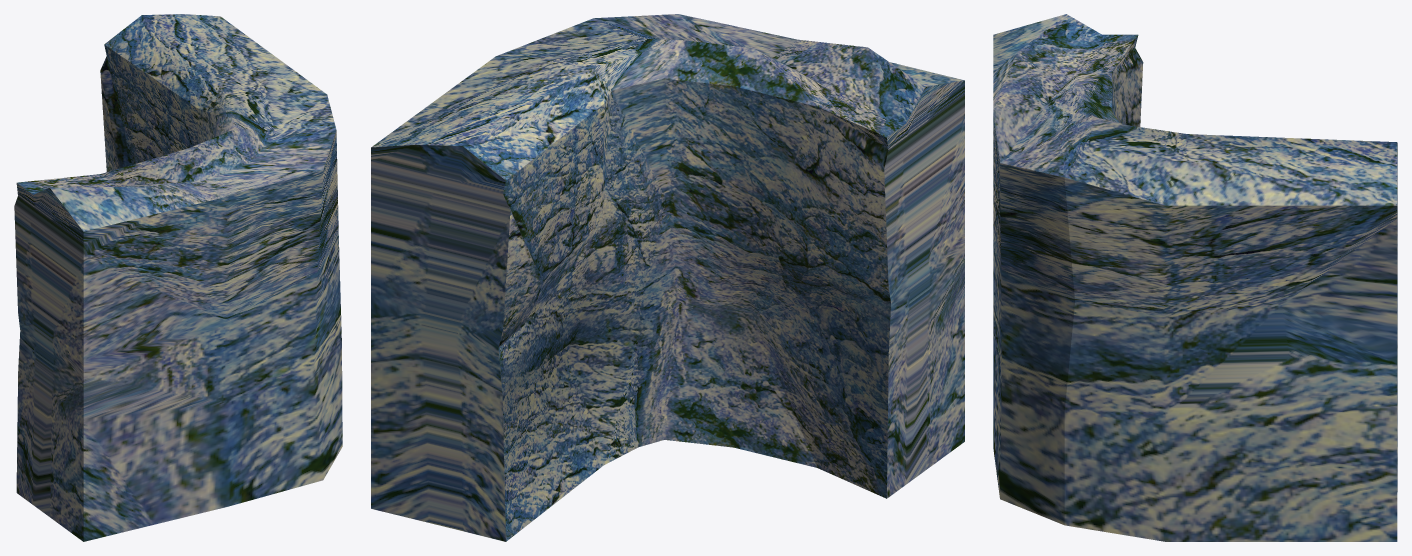
The model's file is rockWall_left_concave.fbx.
3 views of the same model, side by side, from view 1: azimuth 30°, elevation 25°; view 2: azimuth 150°, elevation 25°; view 3: azimuth 270°, elevation 25° (orthographic). The views are drawn at different scales.
Parts seen in each view (by area): view 1: pPlane12; view 2: pPlane12; view 3: pPlane12.
Boxes of the visible parts, left/top/right/bottom form: pPlane12: left=14, top=14, right=342, bottom=541; pPlane12: left=371, top=14, right=964, bottom=541; pPlane12: left=993, top=14, right=1397, bottom=541.
Size of the model in its own units: 12 by 12 by 11.97.
